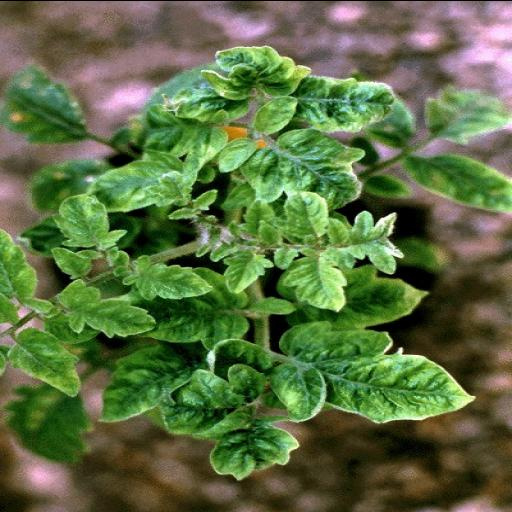Yellow Leaf Curl Virus: (270, 319, 488, 423), (244, 126, 370, 204), (99, 341, 211, 424), (50, 277, 164, 339), (400, 150, 512, 213), (294, 72, 406, 134), (84, 153, 180, 211), (279, 245, 362, 310), (52, 192, 128, 254), (119, 254, 213, 300), (280, 187, 334, 241), (252, 92, 301, 138), (222, 252, 272, 294), (214, 136, 256, 174)
